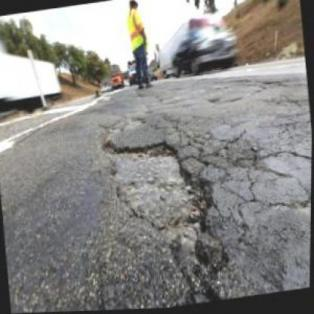Hueco: (99, 124, 220, 243), (169, 234, 232, 307), (103, 114, 144, 136)
